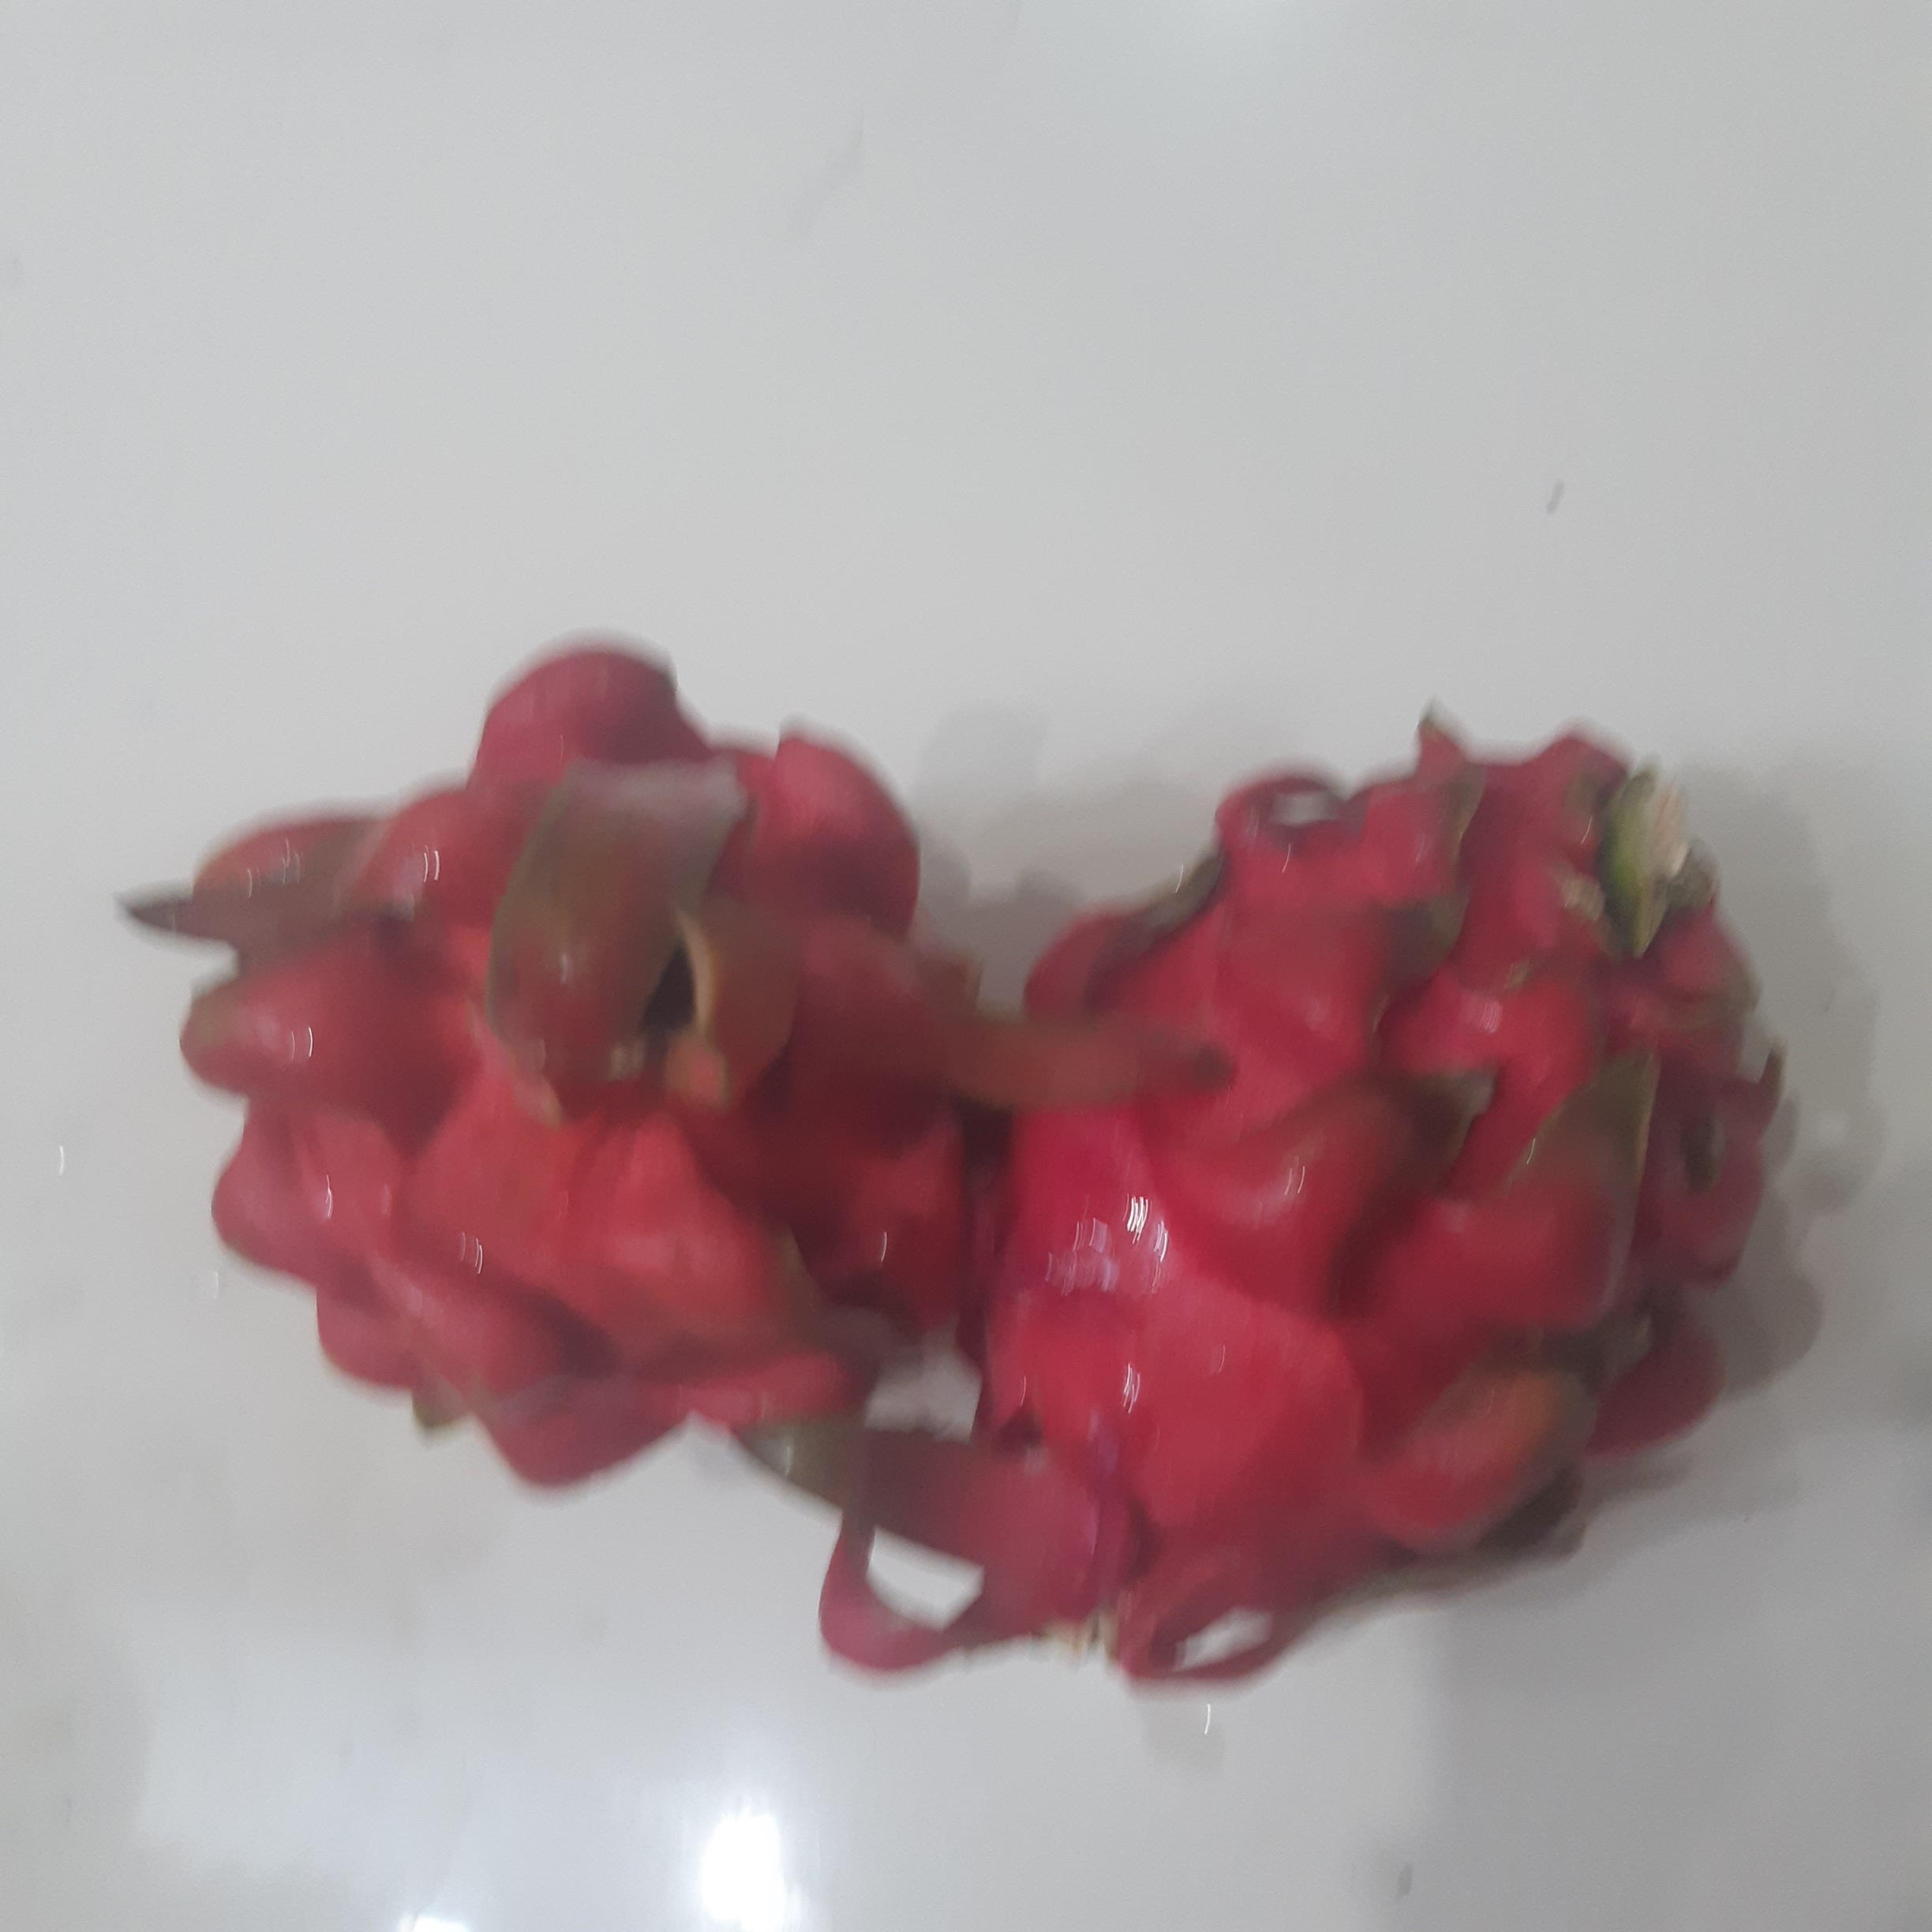Thanh long: (903, 746, 1795, 1657), (167, 700, 971, 1452)
